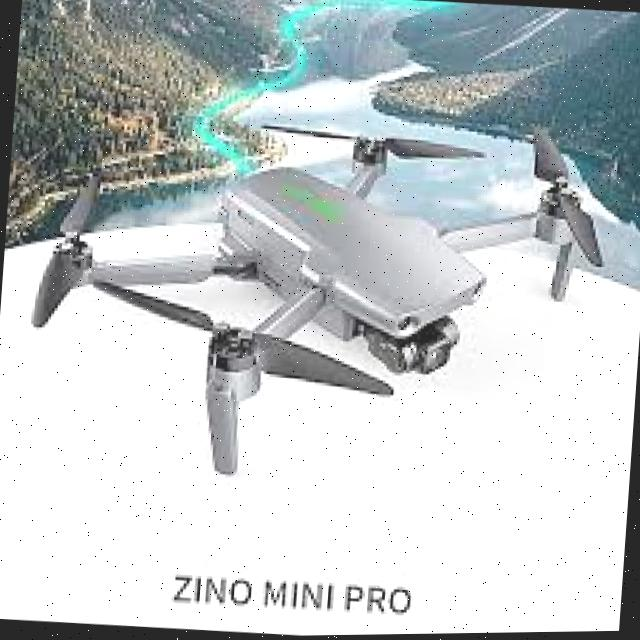drone: (14, 86, 626, 506)
